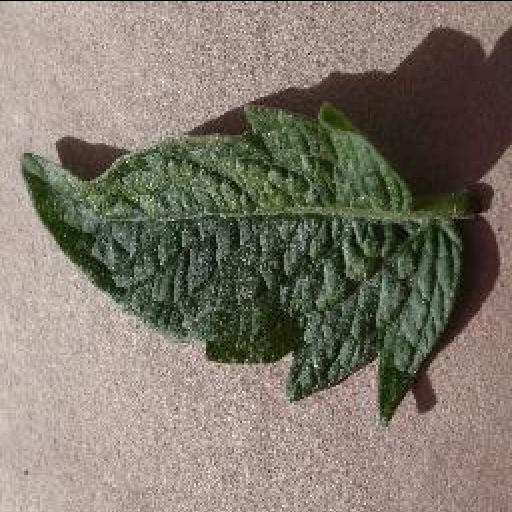disease_tomato: (18, 102, 464, 426)
